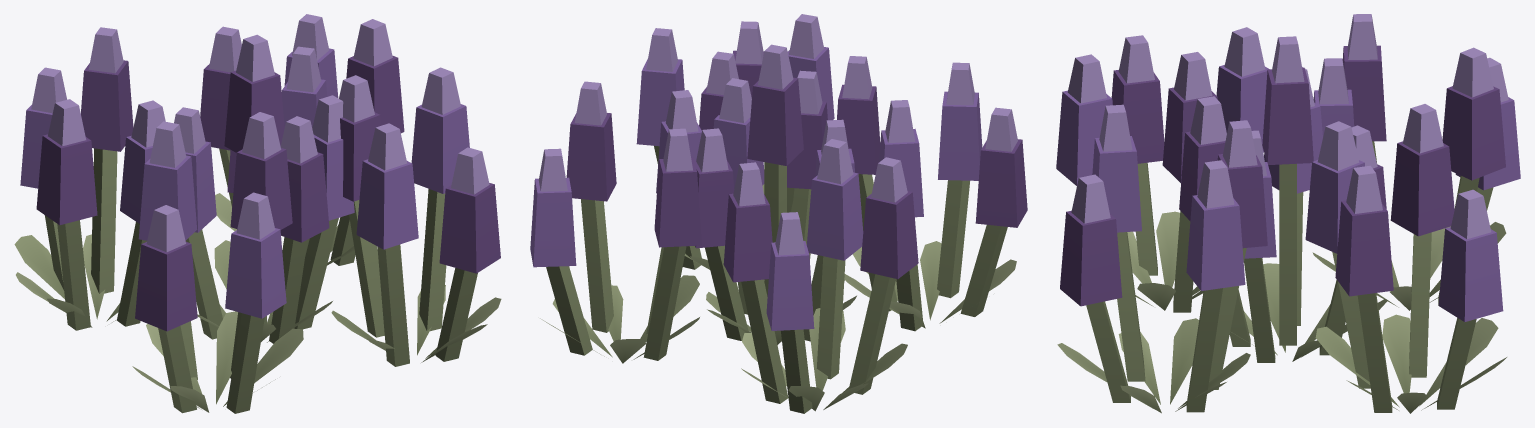
Rendered from crop_lavender.glb.
The picture shows the model from 3 angles, left to right: view 1: azimuth 30°, elevation 25°; view 2: azimuth 150°, elevation 25°; view 3: azimuth 270°, elevation 25°; orthographic projection. The views are drawn at different scales.
Parts seen in each view (by area): view 1: crop_lavender; view 2: crop_lavender; view 3: crop_lavender.
Boxes of the visible parts, x1,y1,x2,y2 form: crop_lavender: [14, 14, 501, 413]; crop_lavender: [530, 14, 1027, 413]; crop_lavender: [1056, 14, 1520, 413].
Size of the model in its own units: 1.23 by 0.9771 by 1.3.
